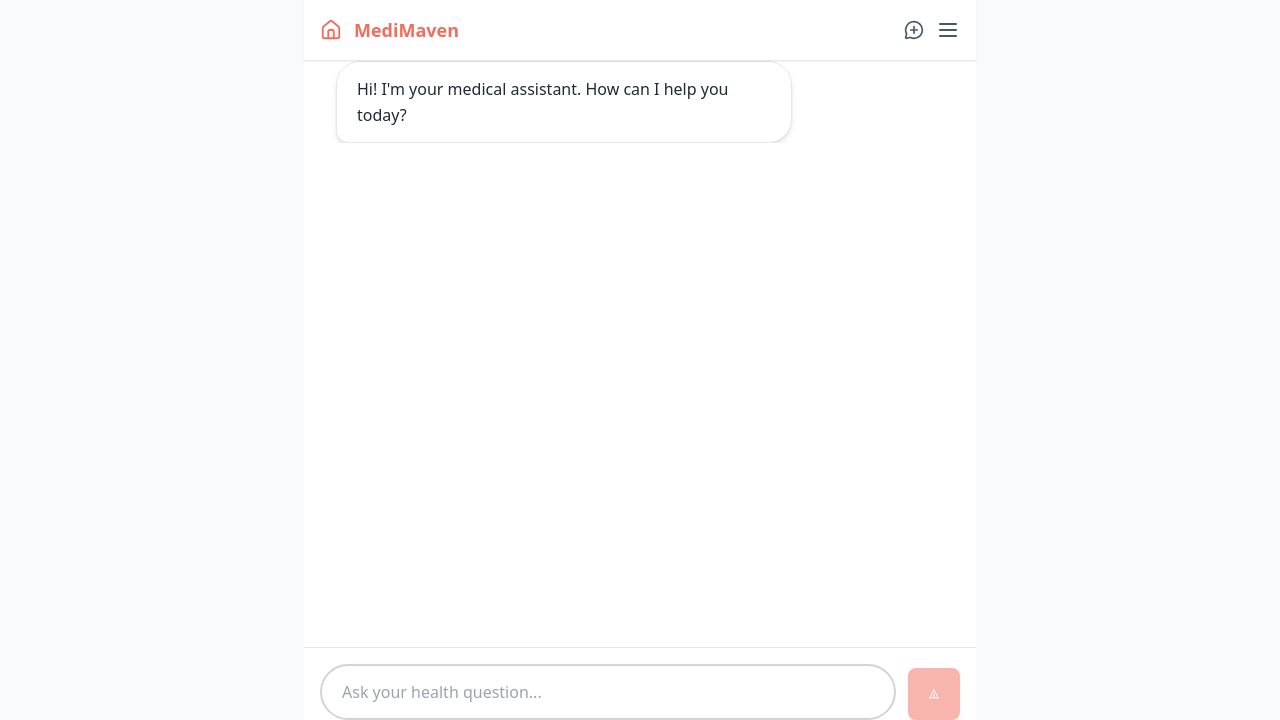
Test: MediMaven Medical RAG Assistant › handles document citations properly
This screenshot has width=1280, height=720.
# Ask for specific medical info
Type "Latest FDA guidelines on blood pressure medications" into the text box with placeholder "Ask your health question..." at (608, 692), box [320,664,896,719]
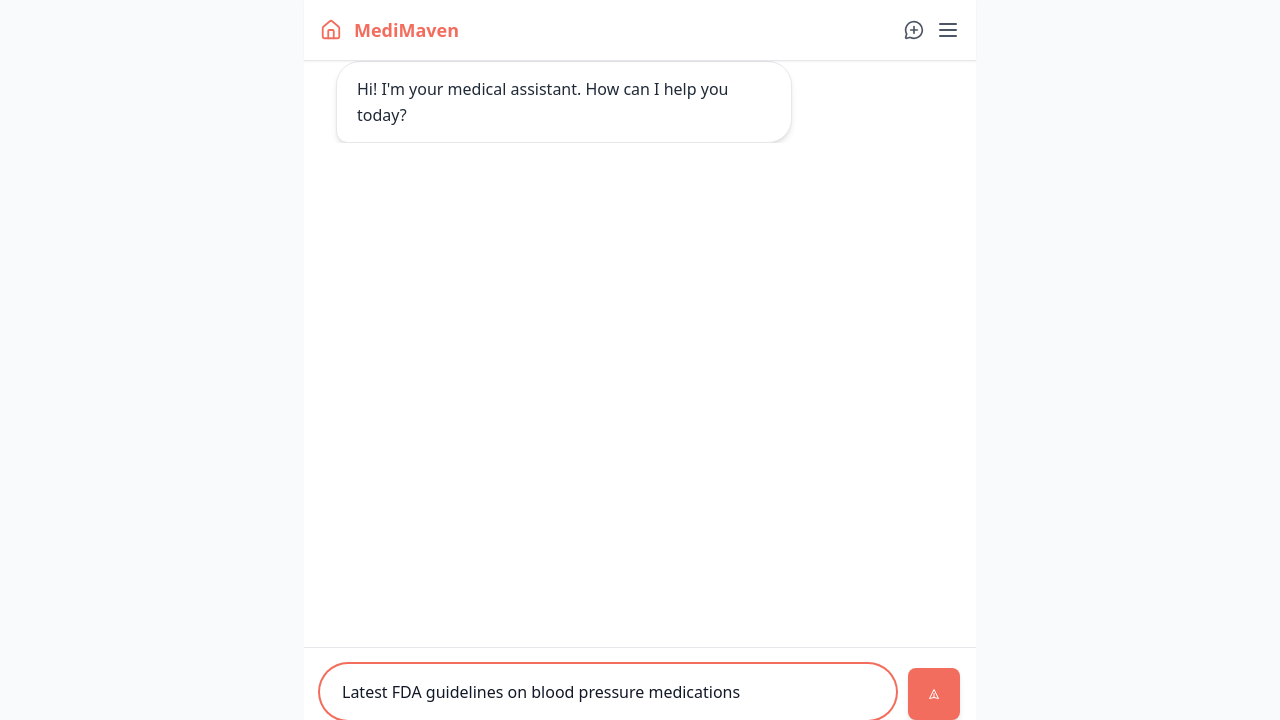
Click the button named "Send message" at (934, 694), box [908,668,960,719]
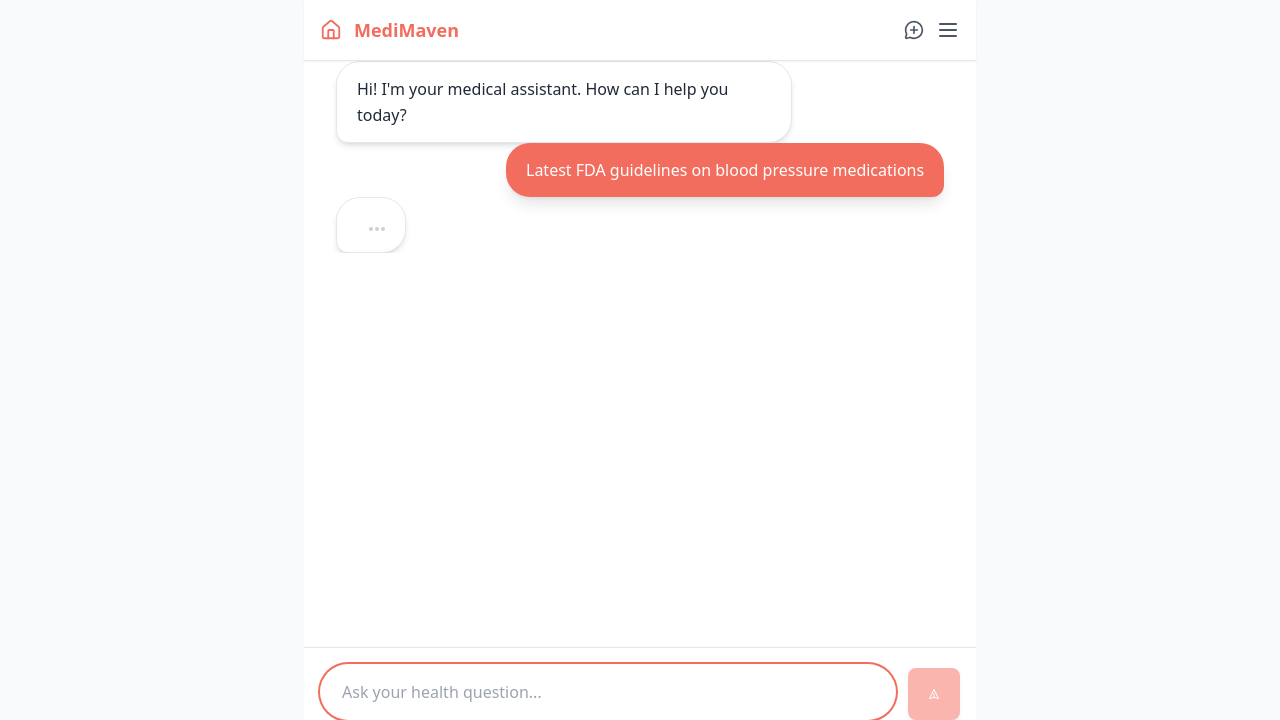
Now the text "Latest FDA guidelines on blood pressure medications" is shown, box [526,157,924,183]
